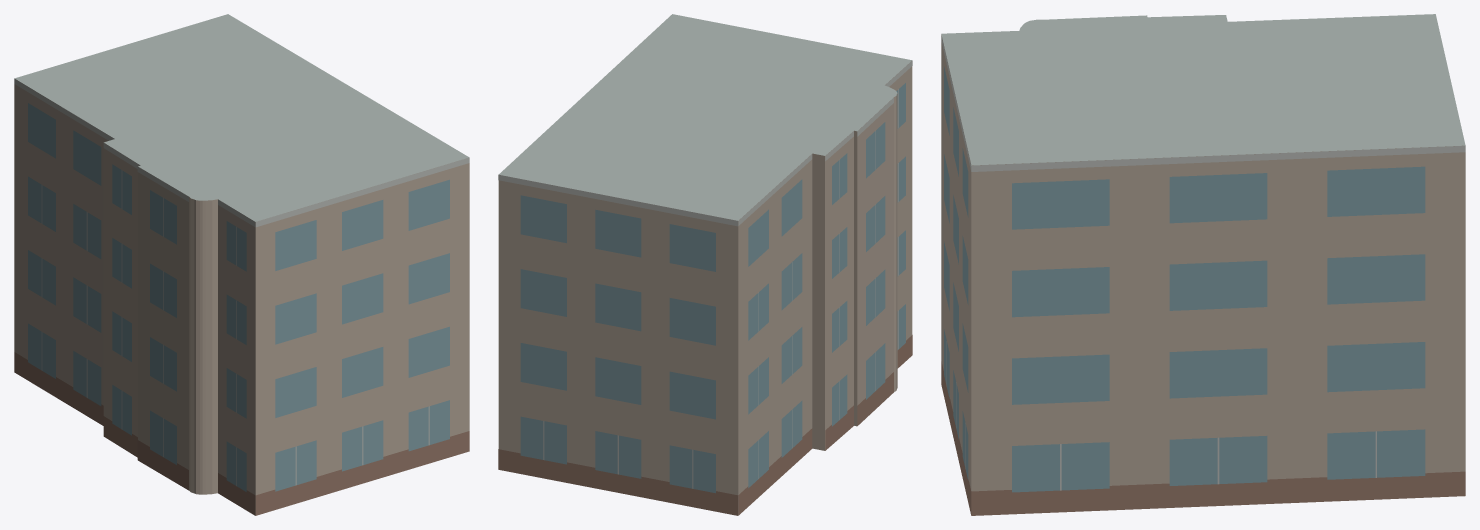
File: survey-upis-32987968.glb
The picture shows the model from 3 angles, left to right: view 1: azimuth 30°, elevation 25°; view 2: azimuth 150°, elevation 25°; view 3: azimuth 270°, elevation 25°; orthographic projection. The views are drawn at different scales.
Parts seen in each view (by area): view 1: survey-upis-32987968.tmp; view 2: survey-upis-32987968.tmp; view 3: survey-upis-32987968.tmp.
Part boxes in pixels (x1=…): survey-upis-32987968.tmp: x1=14, y1=14, x2=469, y2=515; survey-upis-32987968.tmp: x1=498, y1=14, x2=912, y2=515; survey-upis-32987968.tmp: x1=941, y1=14, x2=1465, y2=515.
Bounding box in the file's own units: 11.99 × 12.92 × 17.53.
